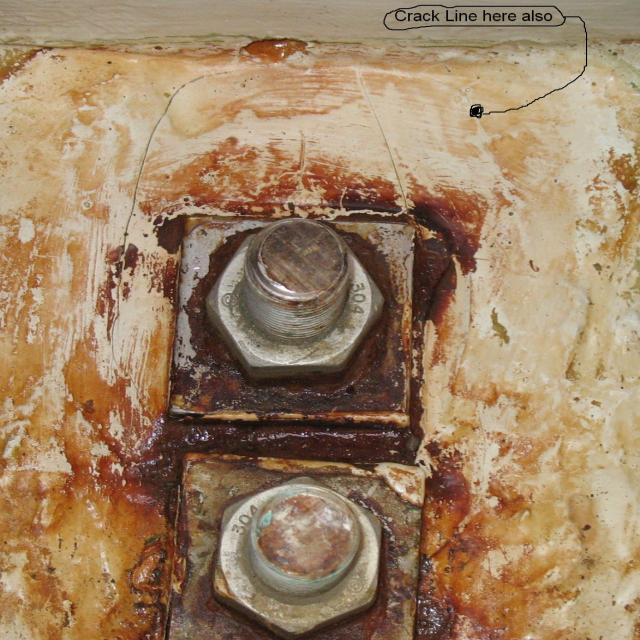bolt nut: (208, 474, 387, 636), (202, 227, 387, 383)
